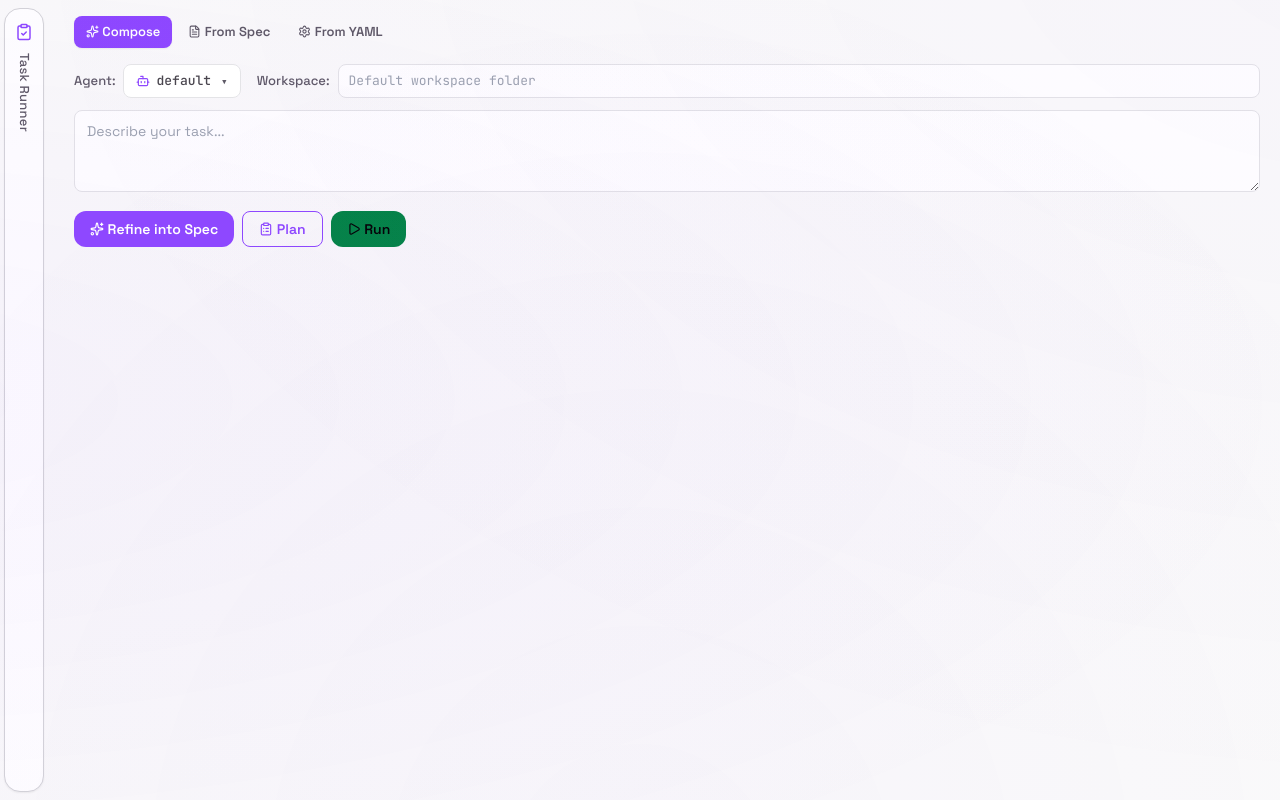
Task Runner — rail resize and collapse › restores a collapsed rail from localStorage, at the stored open width
Expected: the button "New Task" is not shown
Click the button with aria-label "Expand sidebar". click: (24, 400)
box: top-left (5, 9), bottom-right (43, 791)
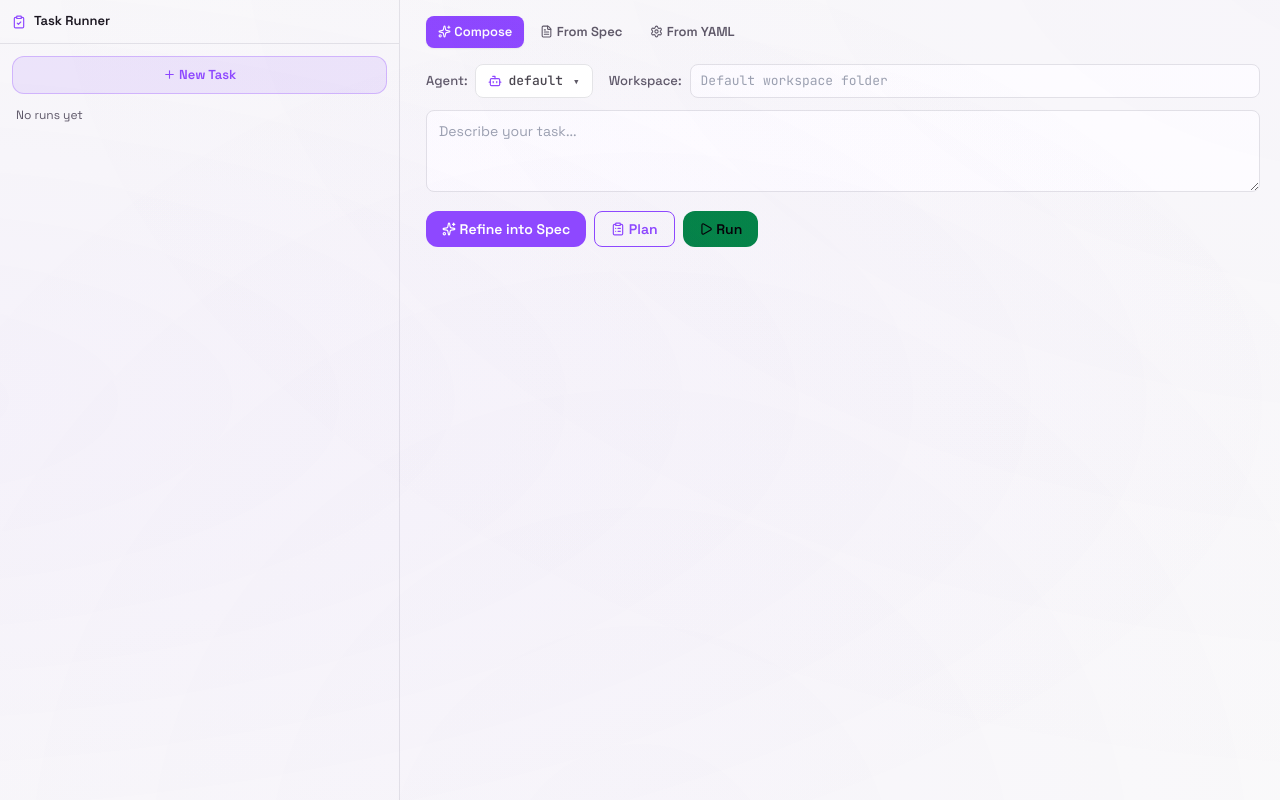
Expected: the button "New Task" is shown, top-left (12, 56), bottom-right (387, 94)
